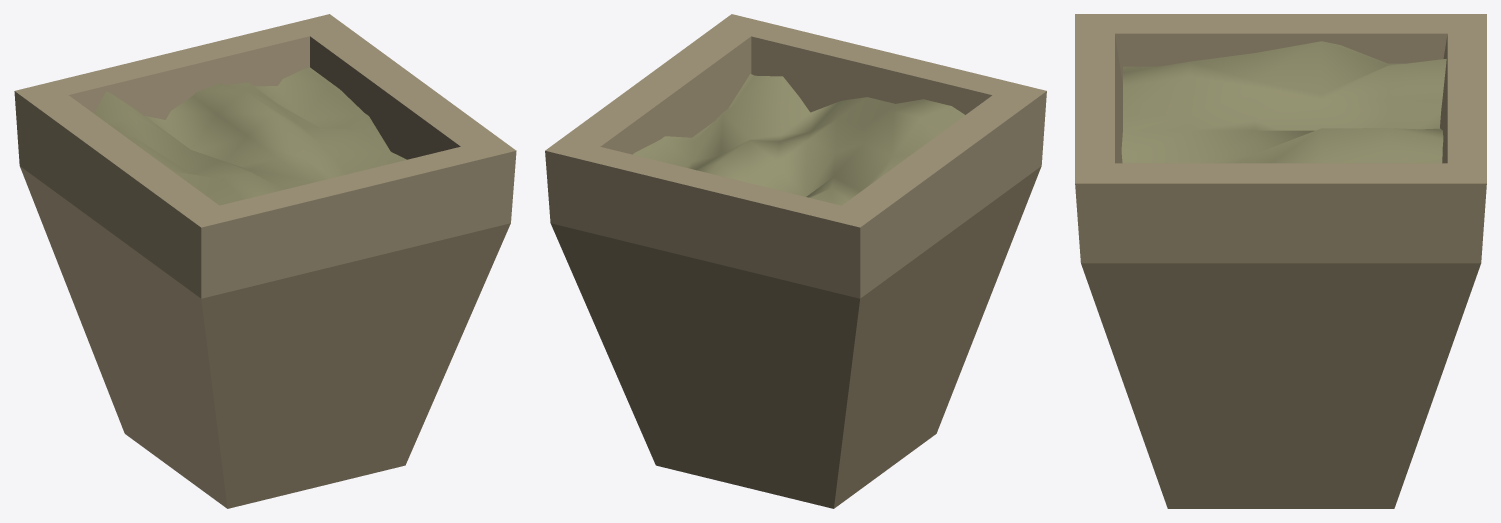
File: maceta_B.fbx
3 renders of one model, left to right at view 1: azimuth 30°, elevation 25°; view 2: azimuth 150°, elevation 25°; view 3: azimuth 270°, elevation 25°, orthographic. The views are drawn at different scales.
Parts seen in each view (by area): view 1: polySurface30; view 2: polySurface30; view 3: polySurface30.
Boxes of the visible parts, bbox=[...] form: polySurface30: bbox=[14, 14, 516, 508]; polySurface30: bbox=[545, 14, 1046, 508]; polySurface30: bbox=[1075, 14, 1486, 508].
Size of the model in its own units: 1.77 by 1.77 by 1.82.
